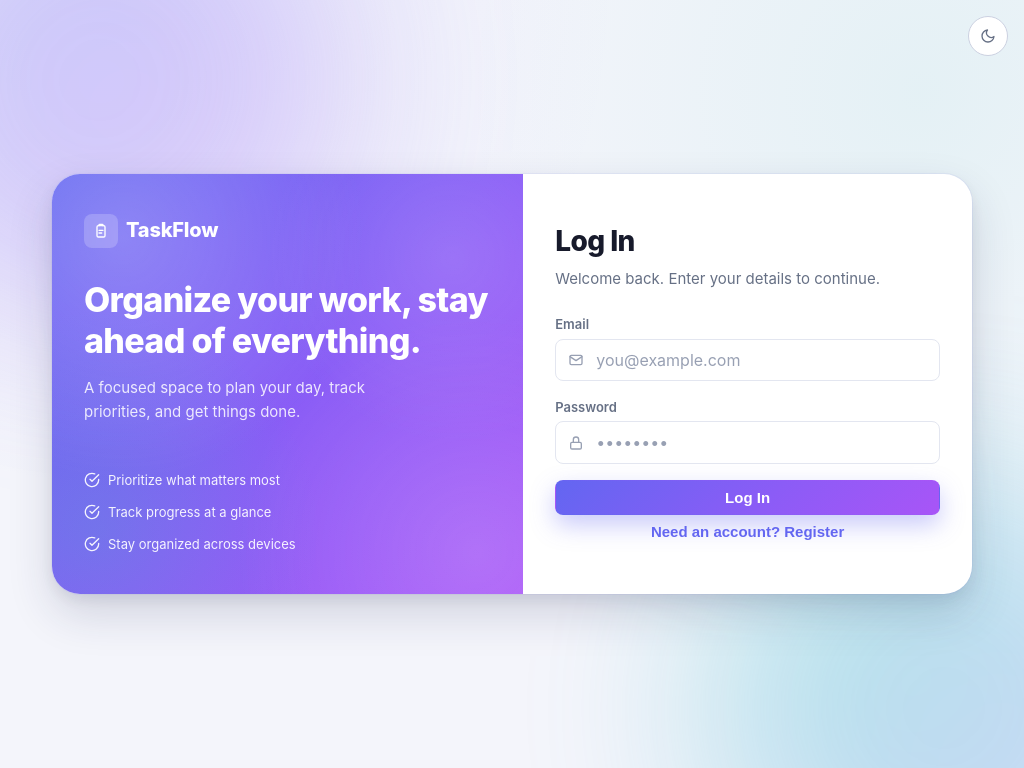
Test: LoginPage › marks an invalid email as aria-invalid and clears the error once corrected
The width and height of the screenshot is (1024, 768).
Step 1. Type "secret1" into the password field labelled "Password" → x=762, y=443, box [596, 422, 927, 463]
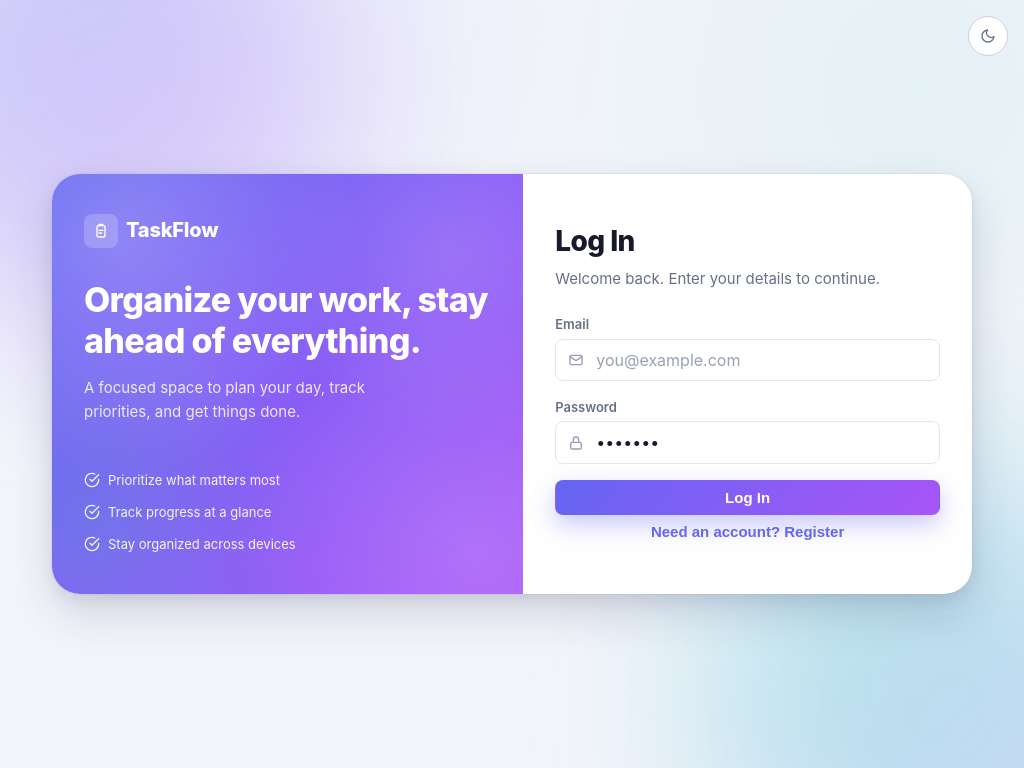
Step 2. Click the button "Log In" → x=748, y=498, box [555, 480, 940, 515]
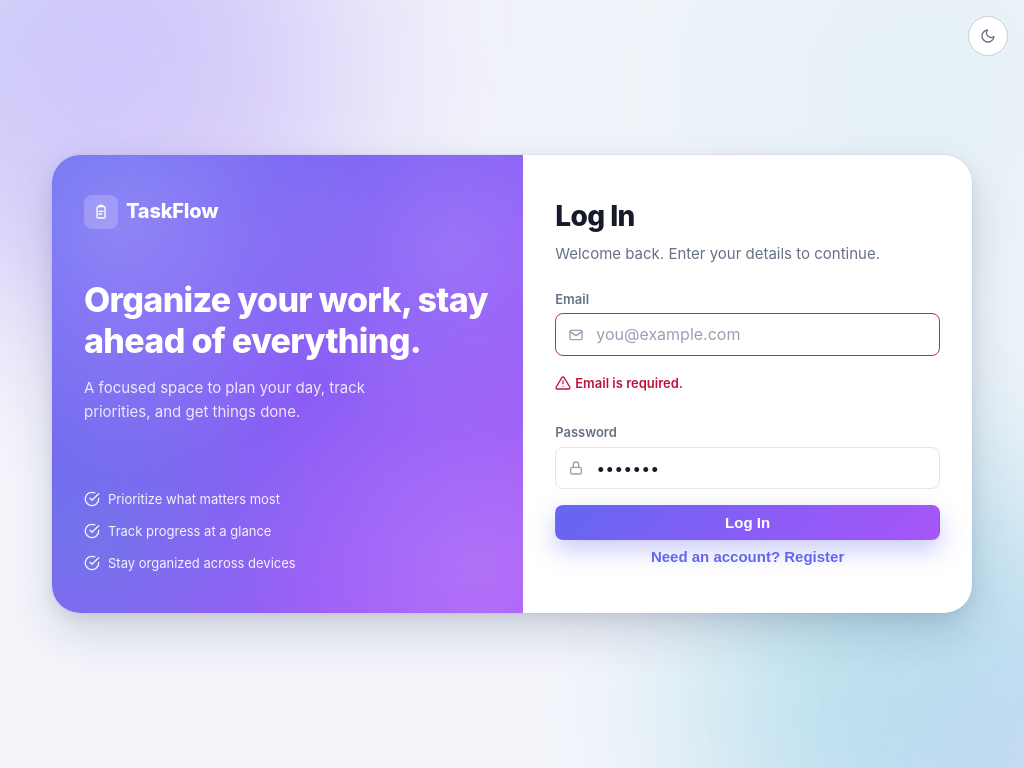
Expected: the text "Email is required." is shown, [555, 375, 683, 391]
Step 3. Type "a@b.com" into the field labelled "Email" → x=762, y=335, box [596, 314, 927, 355]
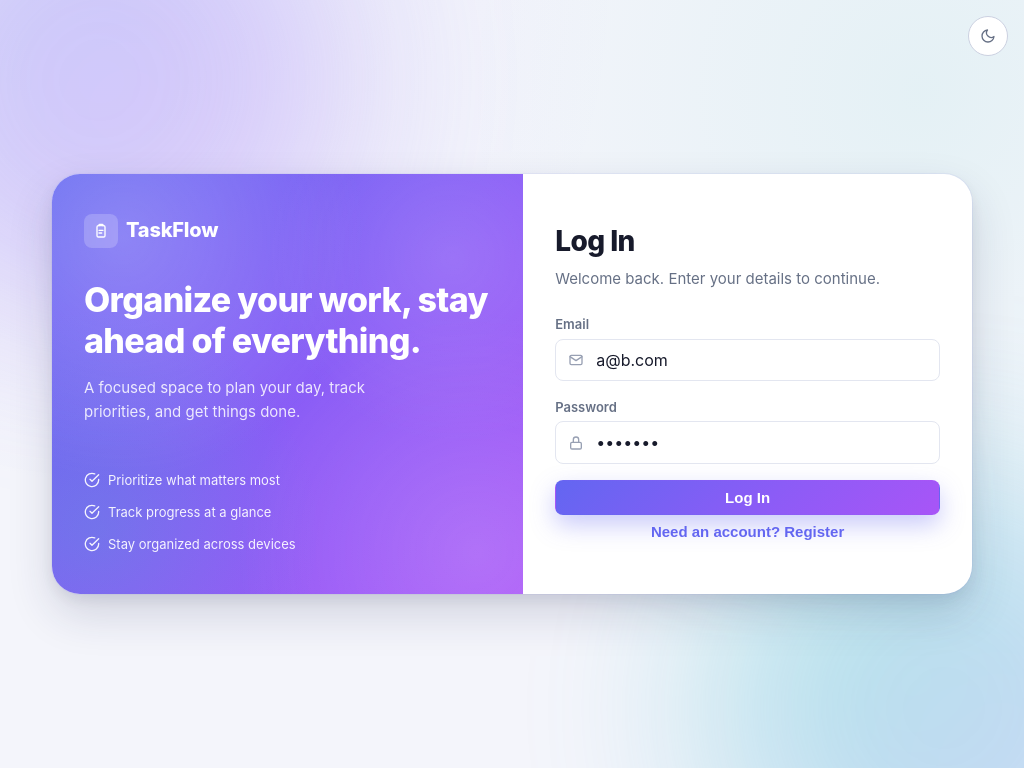
Expected: the text "Email is required." is gone
